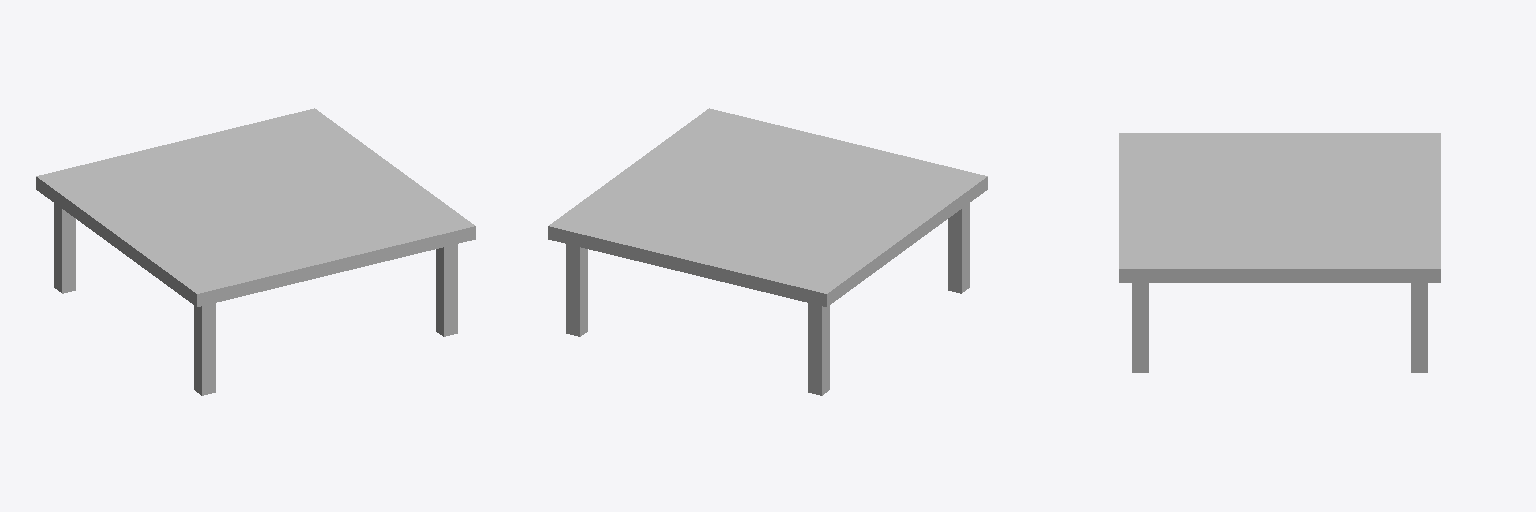
File: Table.obj
3 views of the same model, side by side, from view 1: azimuth 30°, elevation 25°; view 2: azimuth 150°, elevation 25°; view 3: azimuth 270°, elevation 25° (orthographic).
Parts seen in each view (by area): view 1: Cube.004_Cube.005; view 2: Cube.004_Cube.005; view 3: Cube.004_Cube.005.
Part boxes in pixels (bbox=[...]): Cube.004_Cube.005: bbox=[36, 108, 475, 395]; Cube.004_Cube.005: bbox=[548, 108, 987, 395]; Cube.004_Cube.005: bbox=[1119, 133, 1440, 372].
Bounding box in the file's own units: 30 × 11.27 × 30.